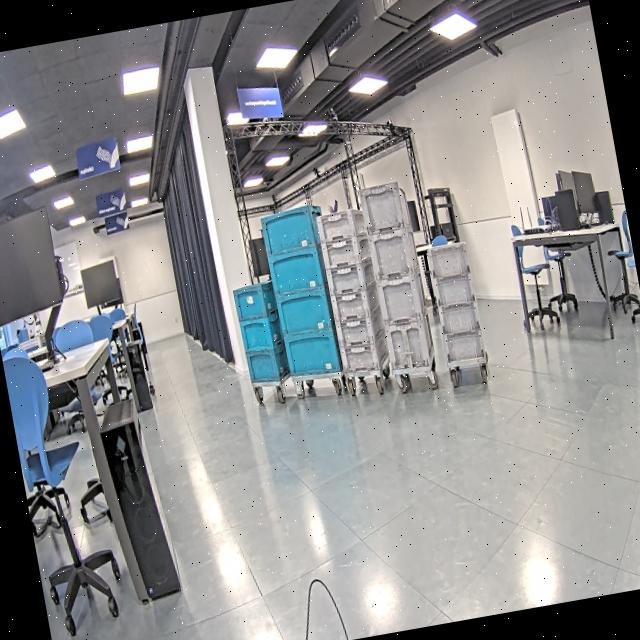Box3G: (338, 329, 392, 374), (334, 310, 386, 350), (328, 288, 381, 326), (316, 208, 368, 244), (324, 260, 375, 296), (319, 234, 372, 268)
Box4G: (370, 262, 429, 328), (379, 311, 434, 374), (355, 179, 412, 235), (365, 224, 420, 280)
Box8G: (440, 322, 488, 366), (426, 240, 471, 282), (437, 300, 482, 340), (432, 272, 477, 308)
BoxB4: (254, 200, 324, 260), (282, 326, 346, 382), (266, 248, 330, 300), (274, 288, 338, 340)
BoxB8: (244, 340, 292, 386), (232, 280, 280, 324), (240, 314, 288, 356)
